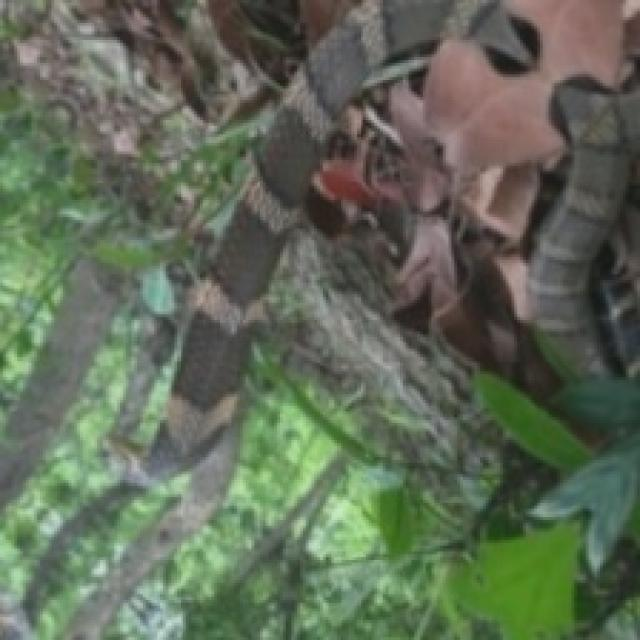king cobra: (95, 0, 539, 486), (531, 88, 640, 367)
